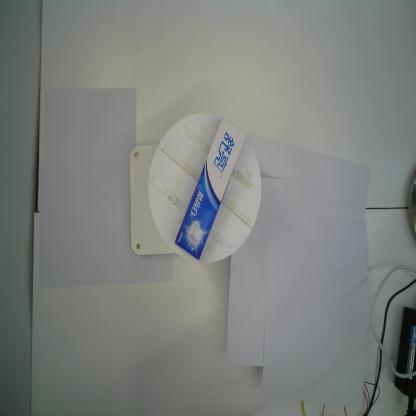Personal Hygiene: (174, 117, 247, 262)
